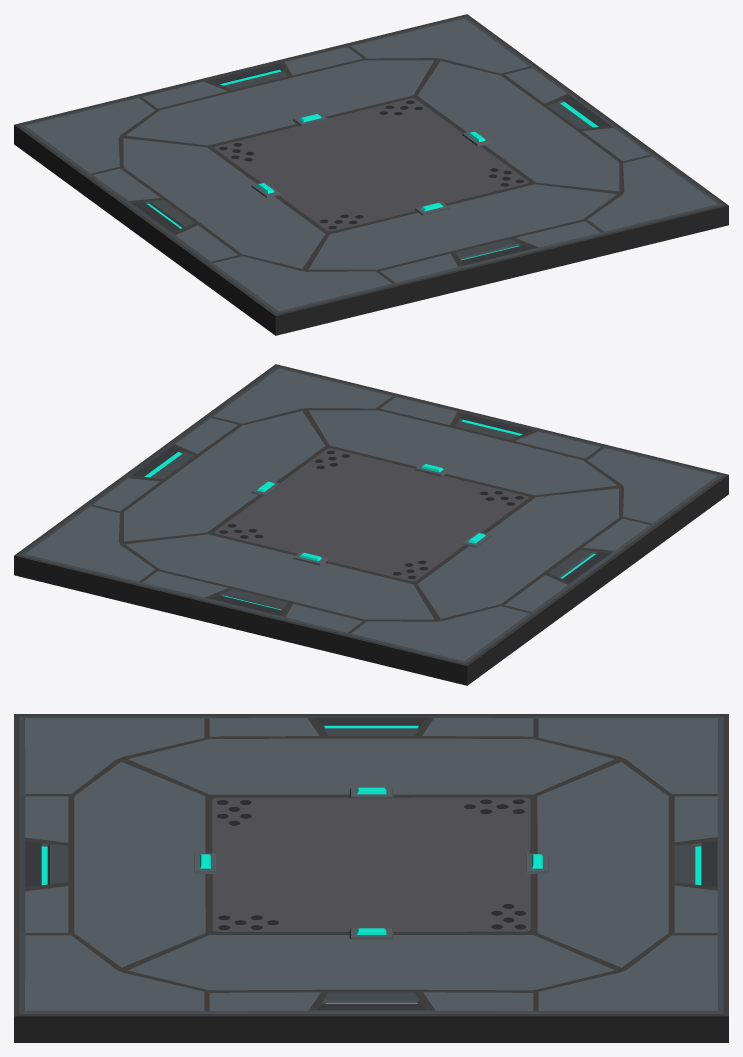
The model's file is SM_Bld_Floor_010.fbx.
3 renders of one model, top to bottom at view 1: azimuth 30°, elevation 25°; view 2: azimuth 150°, elevation 25°; view 3: azimuth 270°, elevation 25°, orthographic. The views are drawn at different scales.
Visible parts, largest first — view 1: SM_Bld_Floor_010; view 2: SM_Bld_Floor_010; view 3: SM_Bld_Floor_010.
Boxes of the visible parts, <box> form: SM_Bld_Floor_010: <box>14,14,728,335</box>; SM_Bld_Floor_010: <box>14,364,728,685</box>; SM_Bld_Floor_010: <box>14,714,728,1042</box>.
Size of the model in its own units: 500 by 24.73 by 500.
Materials: 1 (1 with a texture image).
